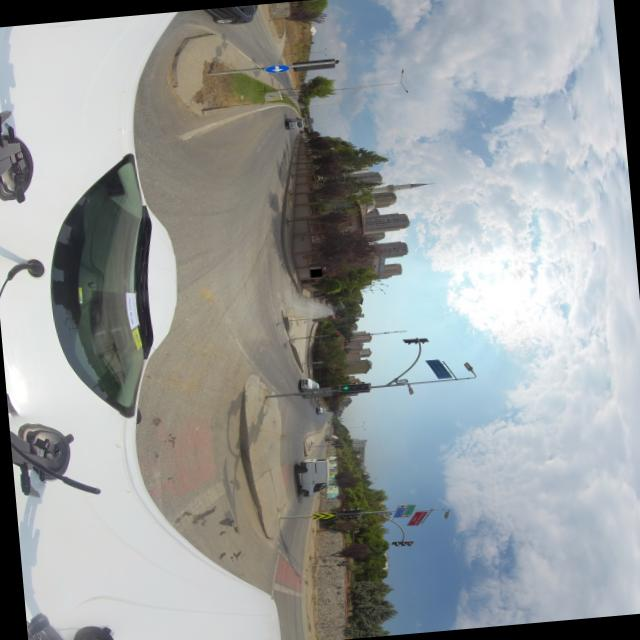SignStore: (309, 269, 321, 277)
